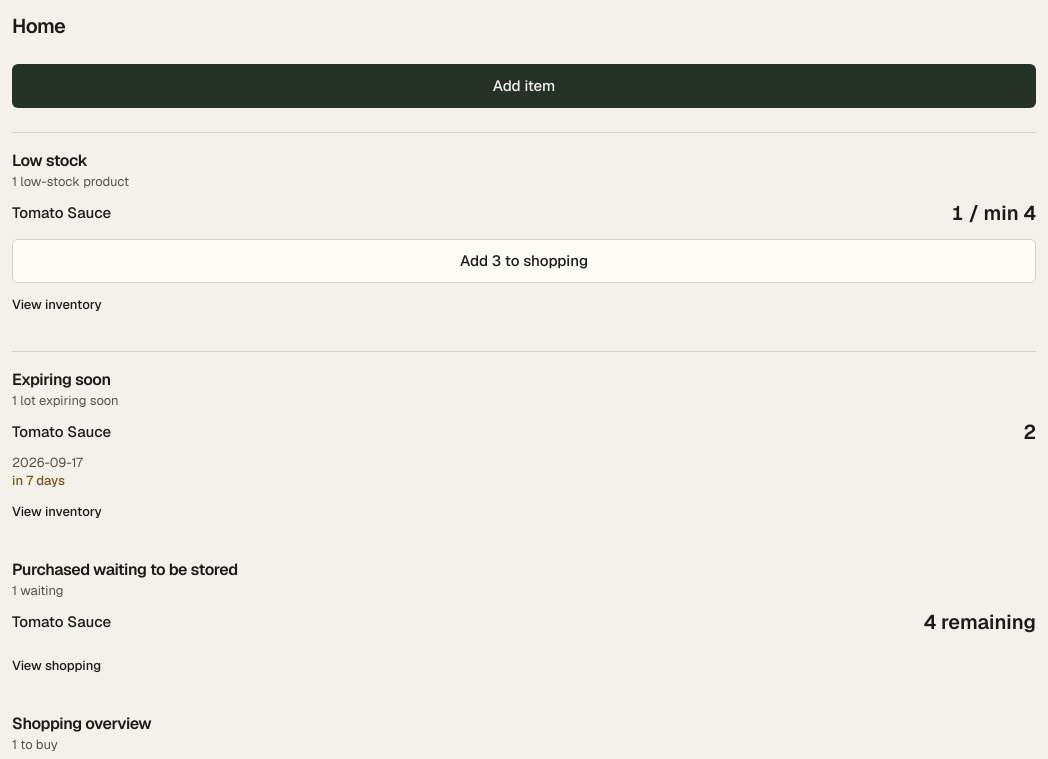
Test case: HomeDashboardScreen › maps invalid quantity without showing codes
Click the button with aria-label "Add 3 Tomato Sauce to shopping" at (524, 261), box [12,239,1036,283]
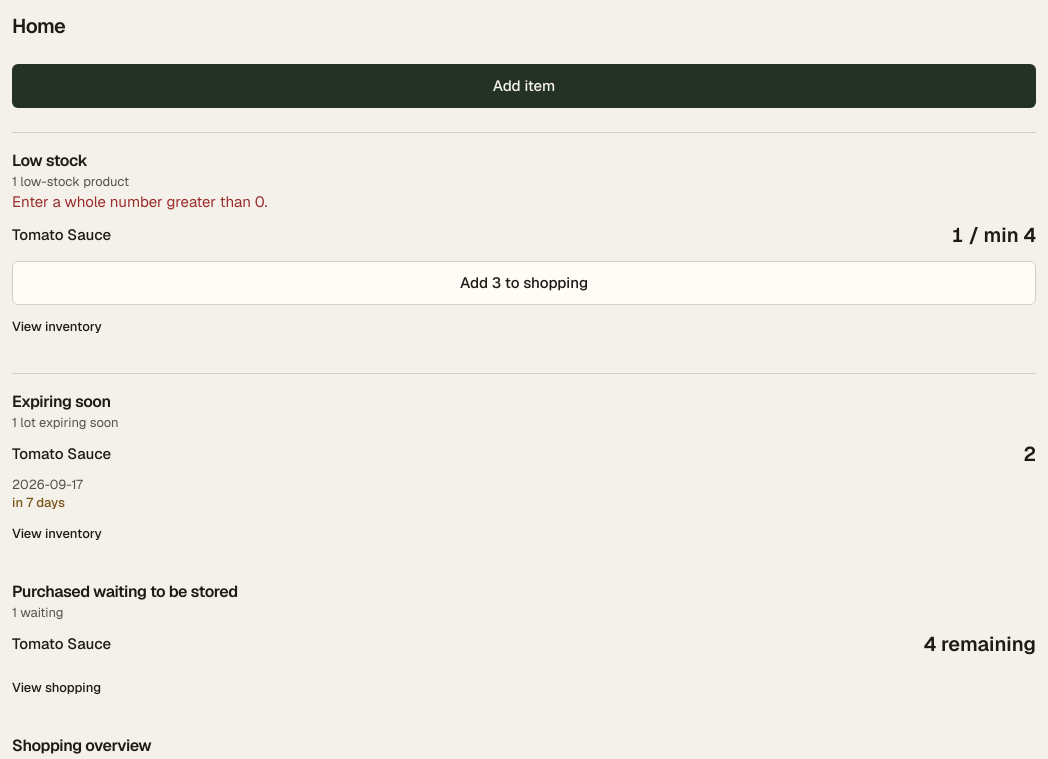
Now the text "Enter a whole number greater than 0." is shown, box [12,192,268,211]
